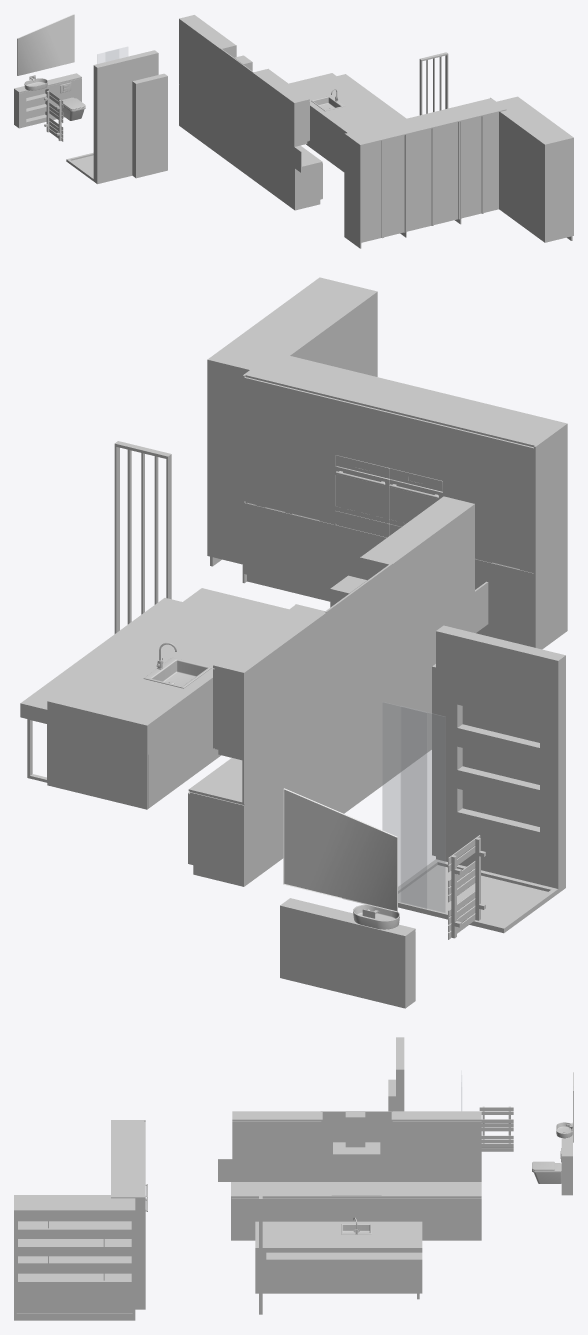
File: EB03__Storey__GroundFloor__ProposedFixtures__MeshModel__.glb
3 renders of one model, top to bottom at view 1: azimuth 30°, elevation 25°; view 2: azimuth 150°, elevation 25°; view 3: azimuth 270°, elevation 25°, orthographic. The views are drawn at different scales.
Visible parts, largest first — view 1: 27__ProposedBuilding__Fixtures::Default, 17__ExistingBuilding__Fixtures::MAT140__Mirror__ClearDefault, 17__ExistingBuilding__Fixtures::Default, 01__ModelFlag__BuildingJoinLines::Default, 27__ProposedBuilding__Fixtures::MAT101__Glass__ClearDefault; view 2: 27__ProposedBuilding__Fixtures::Default, 27__ProposedBuilding__Fixtures::MAT101__Glass__ClearDefault, 17__ExistingBuilding__Fixtures::MAT140__Mirror__ClearDefault, 17__ExistingBuilding__Fixtures::Default, 27_1003__KitchenAppliance__StandardOven__WithWarmingDrawer__ (×2); view 3: 27__ProposedBuilding__Fixtures::Default, 27__ProposedBuilding__Fixtures::MAT01509_-_KitchenAppliance_, 17__ExistingBuilding__Fixtures::Default.
Boxes of the visible parts, x1,y1,x2,y2 form: 27__ProposedBuilding__Fixtures::Default: (14,15,573,248); 17__ExistingBuilding__Fixtures::MAT140__Mirror__ClearDefault: (17,14,74,75); 17__ExistingBuilding__Fixtures::Default: (14,78,85,128); 01__ModelFlag__BuildingJoinLines::Default: (132,73,167,177); 27__ProposedBuilding__Fixtures::MAT101__Glass__ClearDefault: (97,46,127,63); 27__ProposedBuilding__Fixtures::Default: (20,277,567,938); 27__ProposedBuilding__Fixtures::MAT101__Glass__ClearDefault: (382,702,445,912); 17__ExistingBuilding__Fixtures::MAT140__Mirror__ClearDefault: (283,788,397,911); 17__ExistingBuilding__Fixtures::Default: (280,908,415,1008); 27_1003__KitchenAppliance__StandardOven__WithWarmingDrawer__ (×2): (335,455,442,536); 27__ProposedBuilding__Fixtures::Default: (14,1037,572,1320); 27__ProposedBuilding__Fixtures::MAT01509_-_KitchenAppliance_: (333,1112,380,1156); 17__ExistingBuilding__Fixtures::Default: (532,1148,572,1195).
Size of the model in its own units: 6.75 by 2.49 by 10.05.
3 materials, 1 textured.
